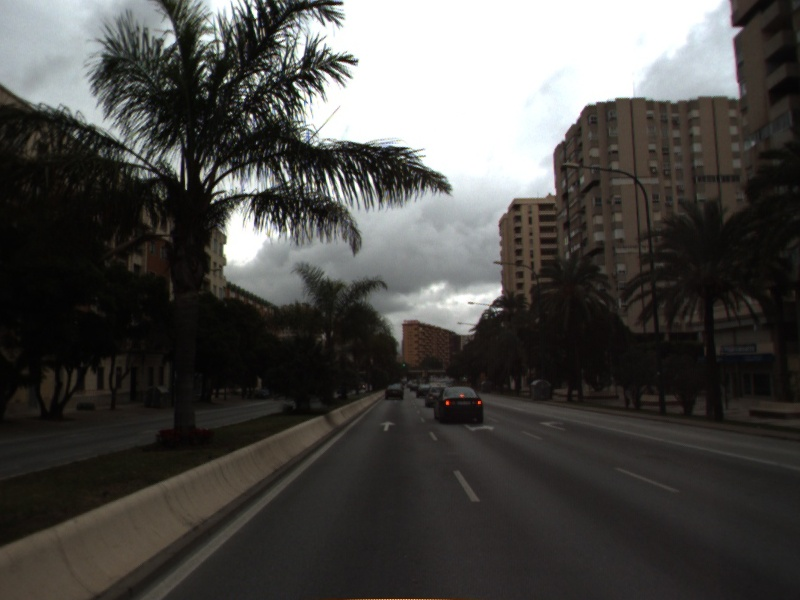RIGHT: (537, 418, 569, 433)
STRAIGHT: (377, 419, 398, 433)
STRAIGHT_RIGHT: (461, 421, 497, 434)
